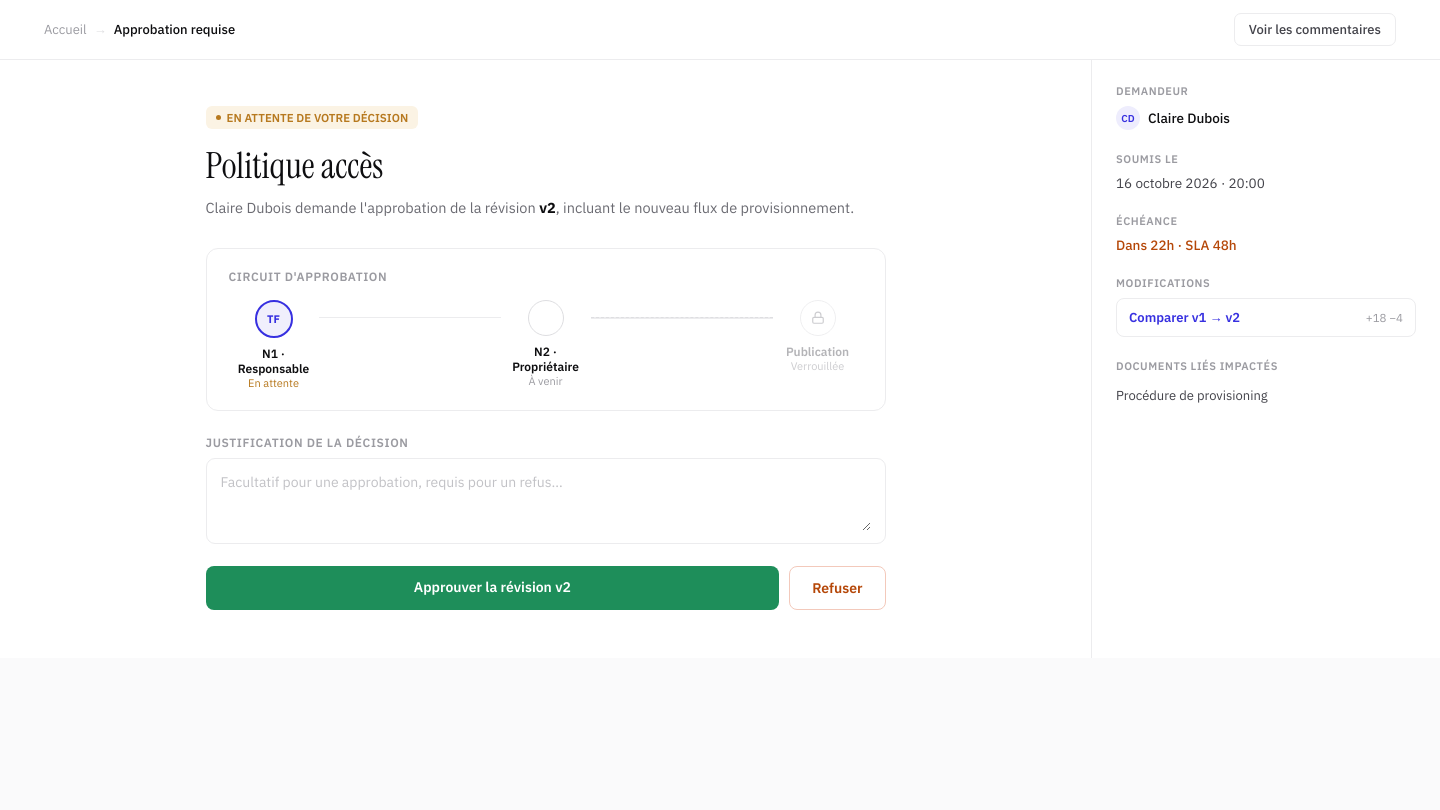
Test: ApprovalsPage — détail canDecide › après Approuver, retour à la file vide
The width and height of the screenshot is (1440, 810).
Click the button "Approuver la révision v2" at coordinates (492, 588), box [206, 566, 779, 610]
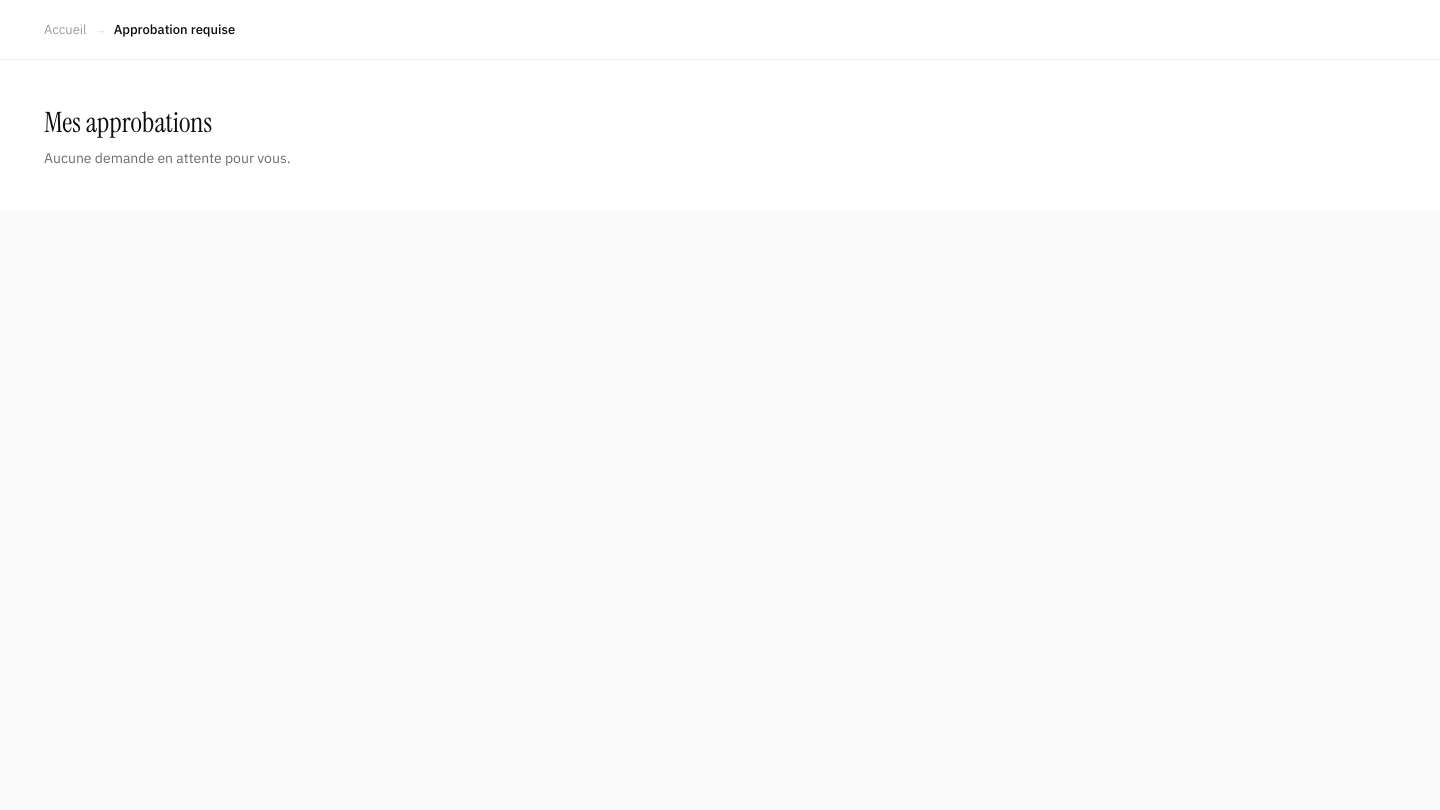
Now the text "Aucune demande en attente pour vous." is shown, box [44, 149, 290, 167]
